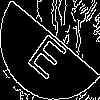E: (25, 25, 74, 81)
